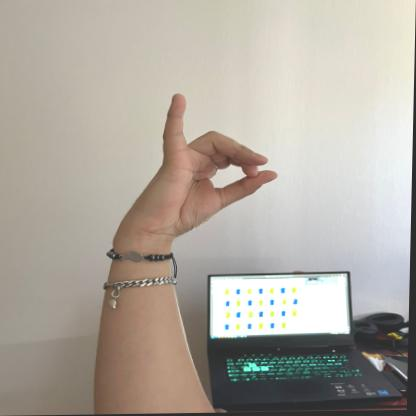D: (122, 88, 287, 240)
